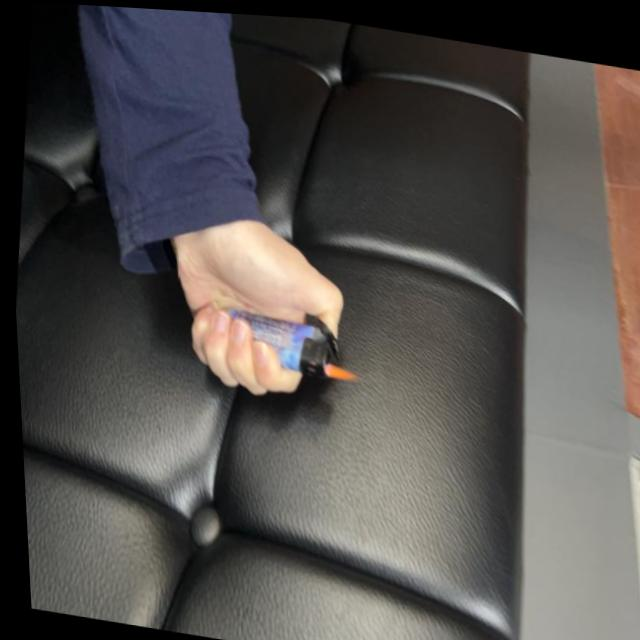Fire: (317, 356, 357, 378)
